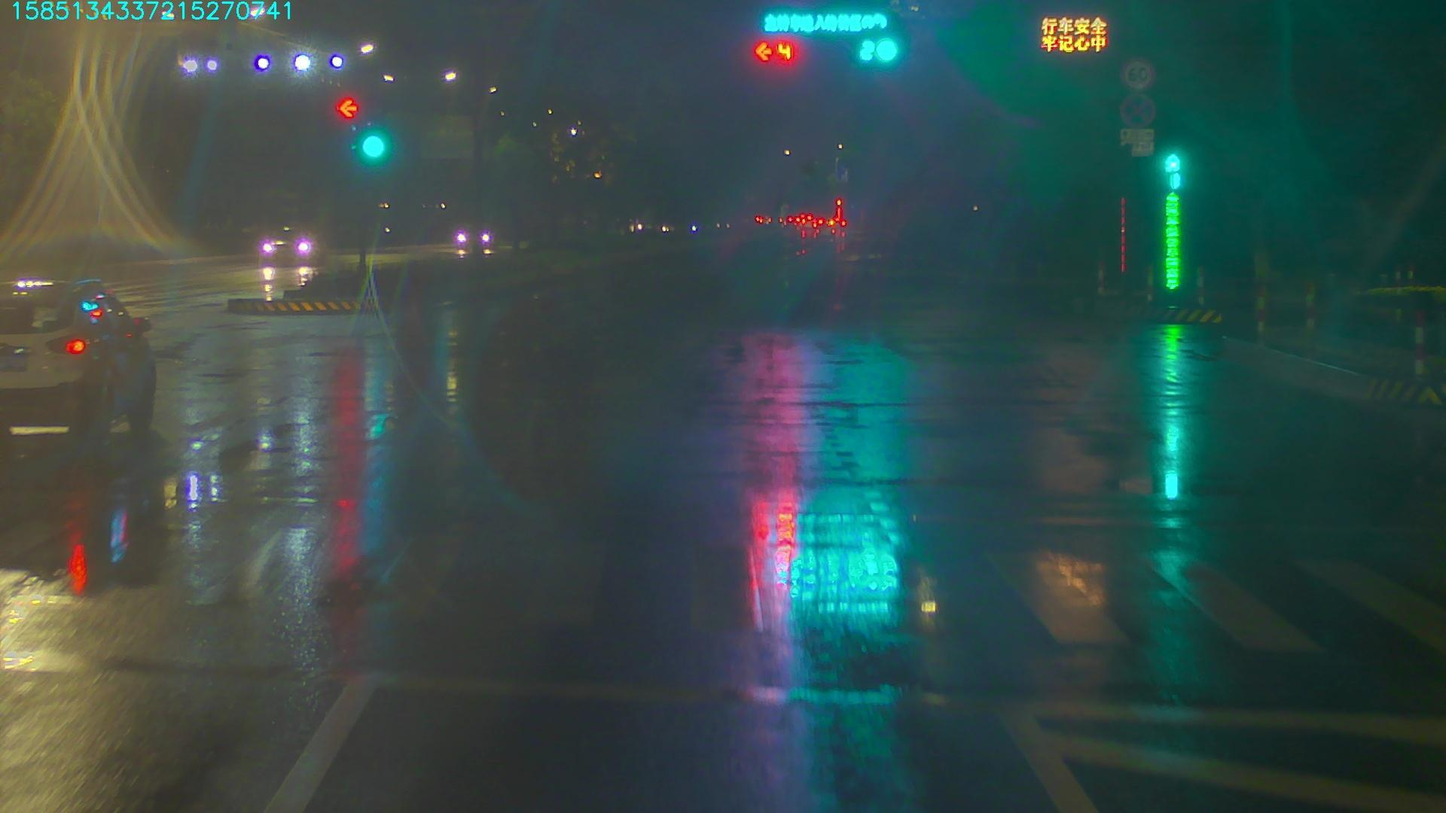green: (857, 34, 900, 64)
red: (755, 42, 795, 62)
wait_on: (761, 12, 891, 33)
